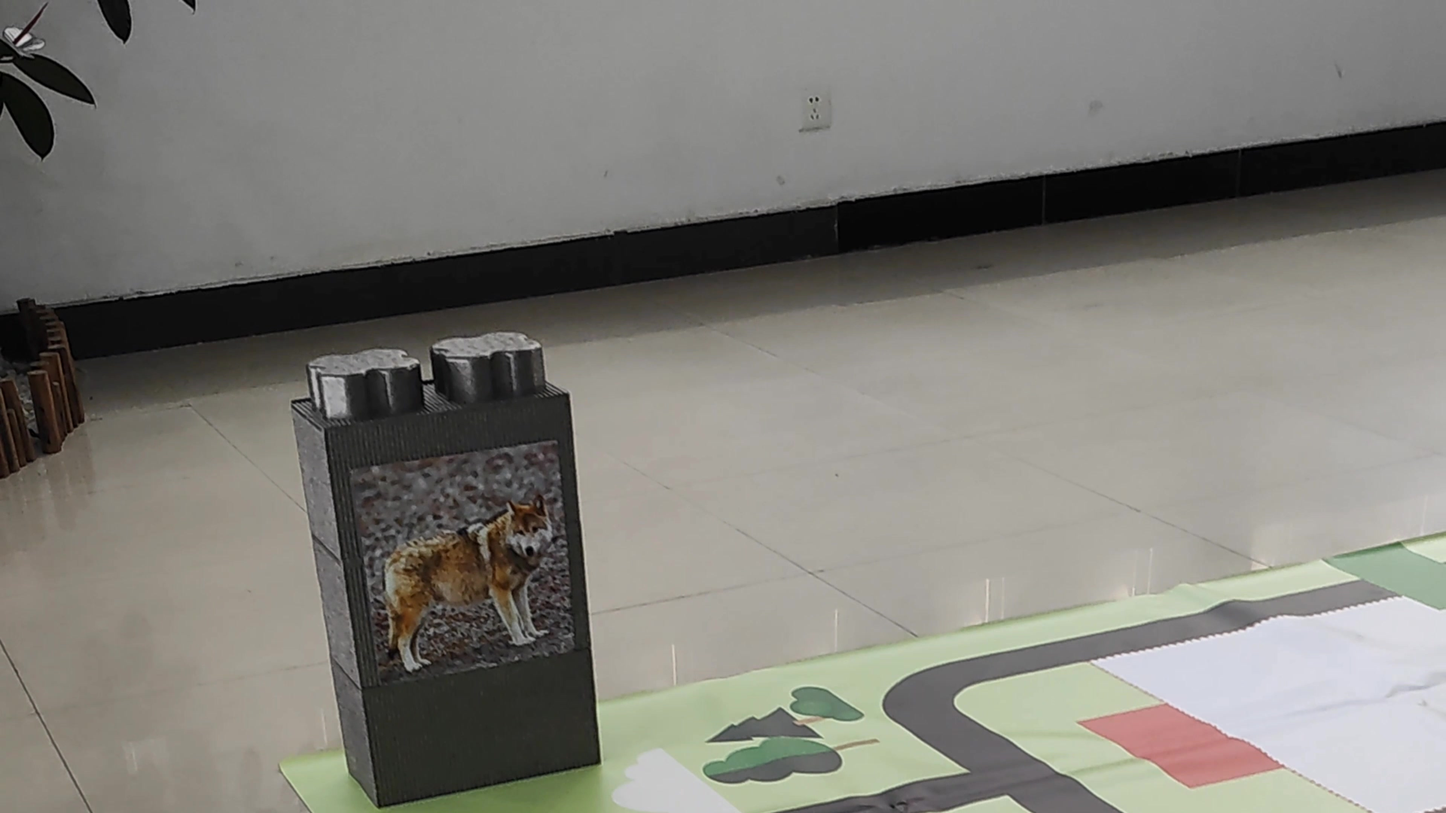wolf: (371, 495, 572, 681)
